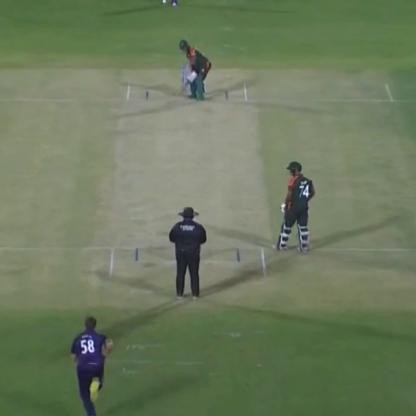bat: (176, 66, 198, 100)
pitch: (101, 82, 271, 284)
